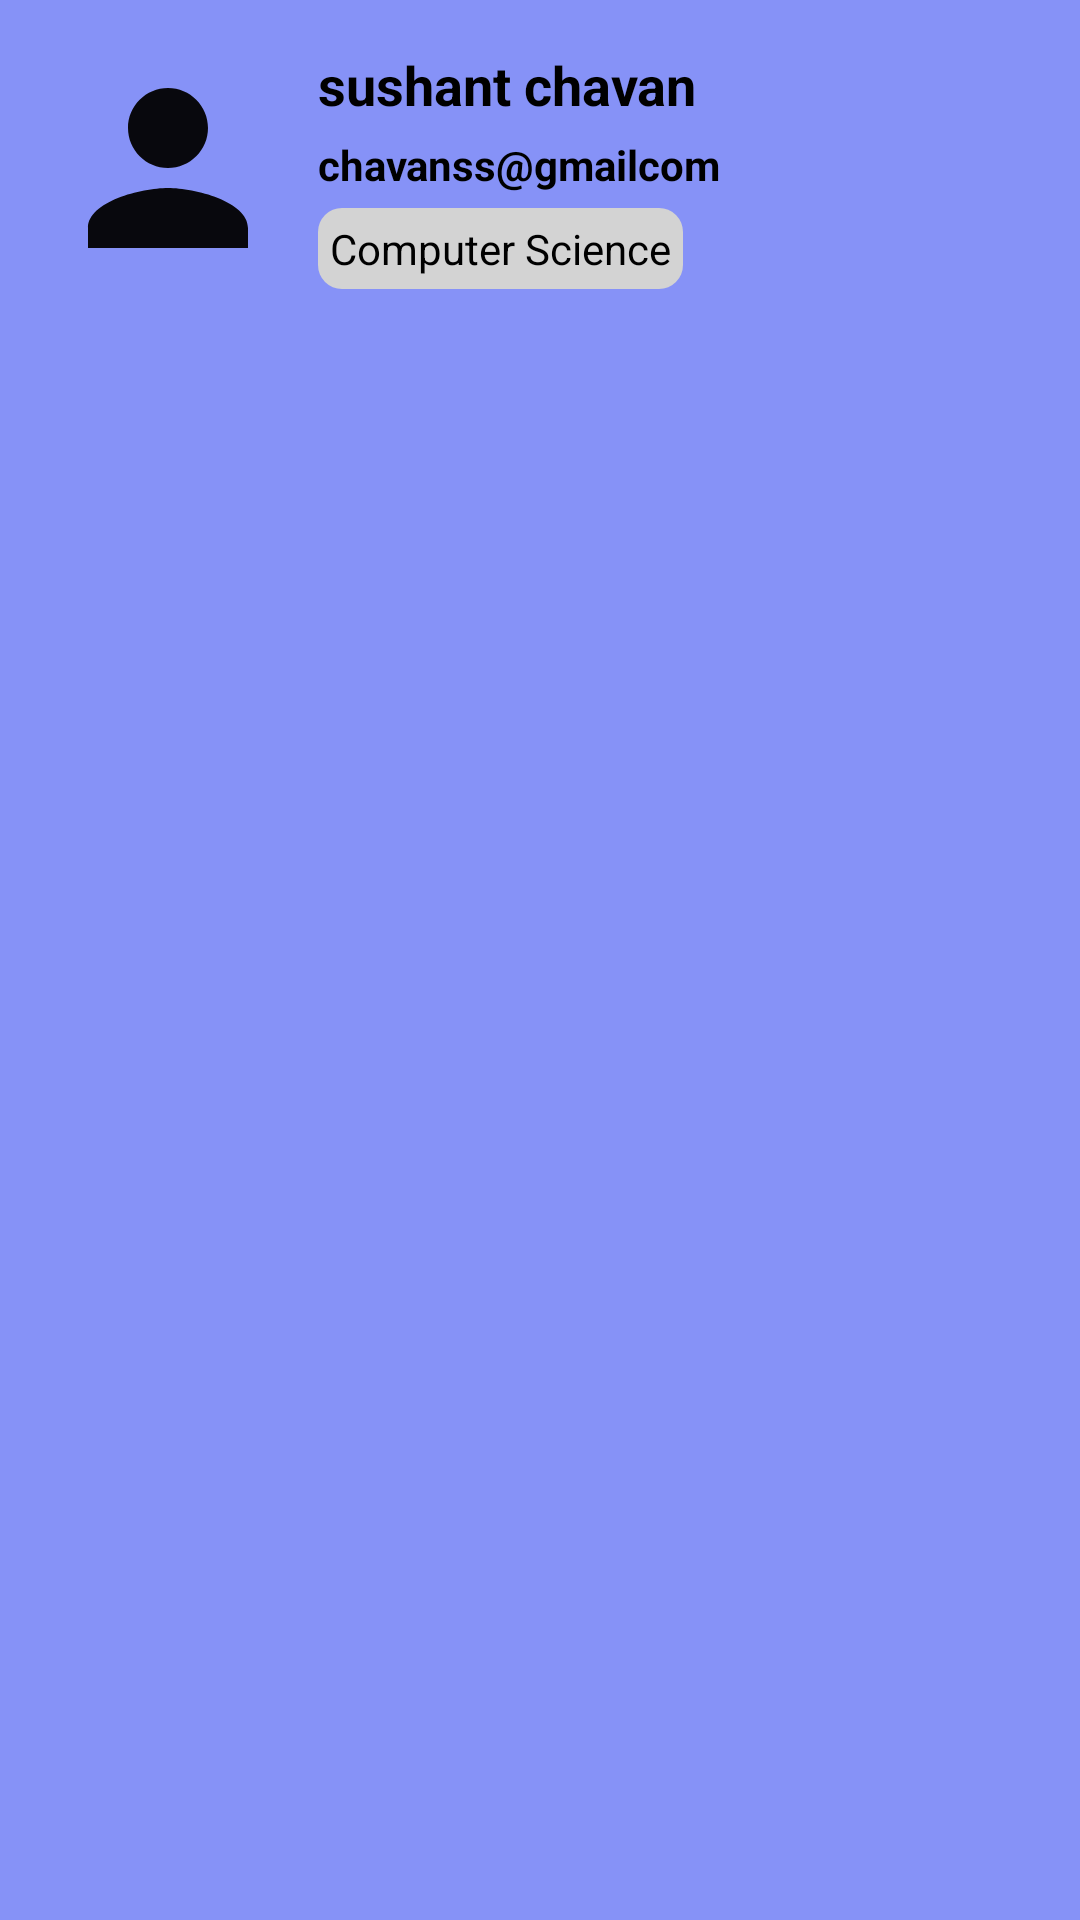

Icon click points for this 1080x1920 phone screenshot, format point (x, y):
person: point (168, 168)
